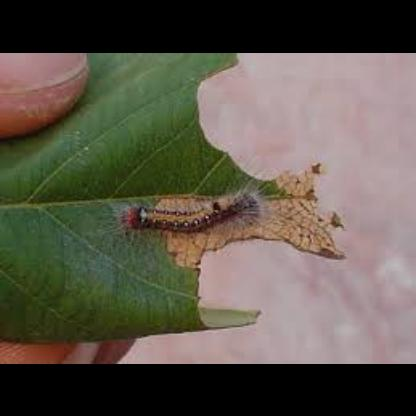agujero: (187, 229, 341, 333), (193, 62, 313, 184)
oruga: (107, 190, 266, 233)
